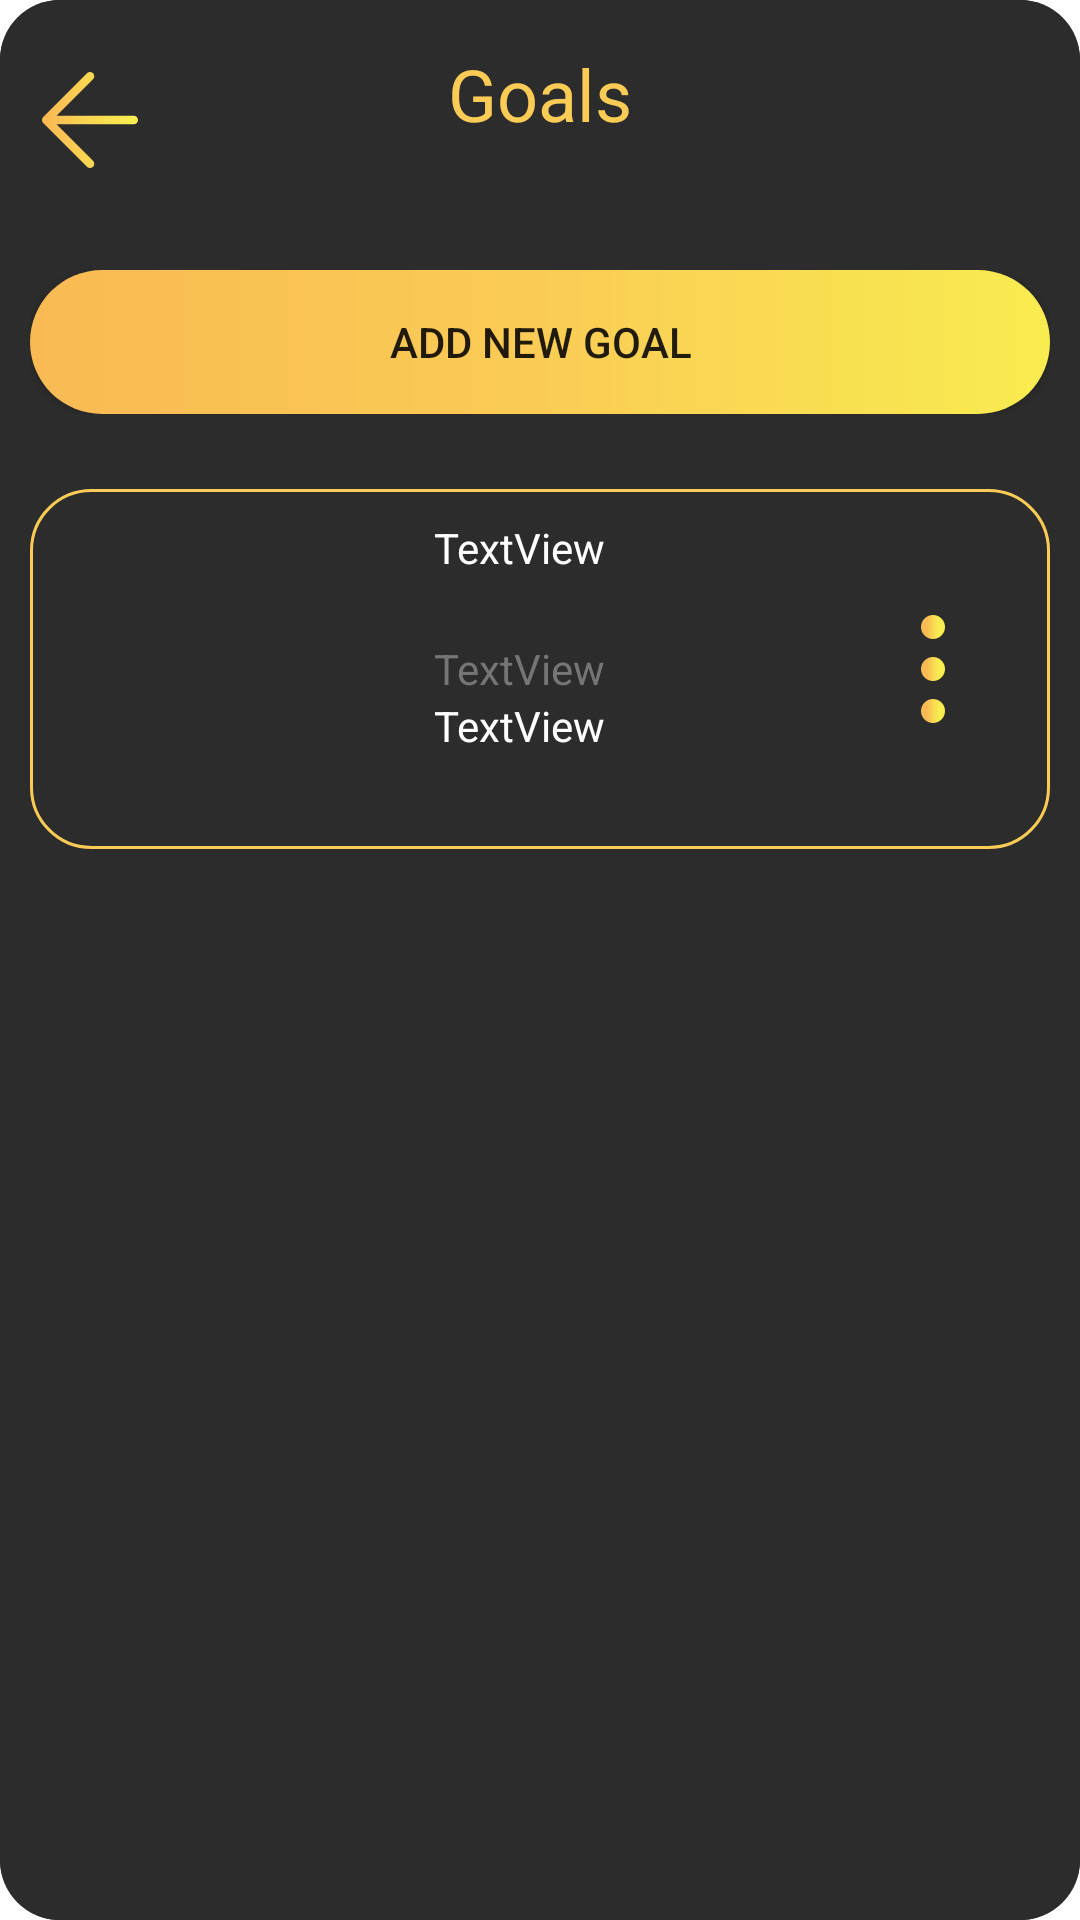

Icon click points for this 1080 x 1920 phone screenshot, format (x=x, y=y):
arrow left: (x=90, y=120)
more vertical: (x=933, y=669)
